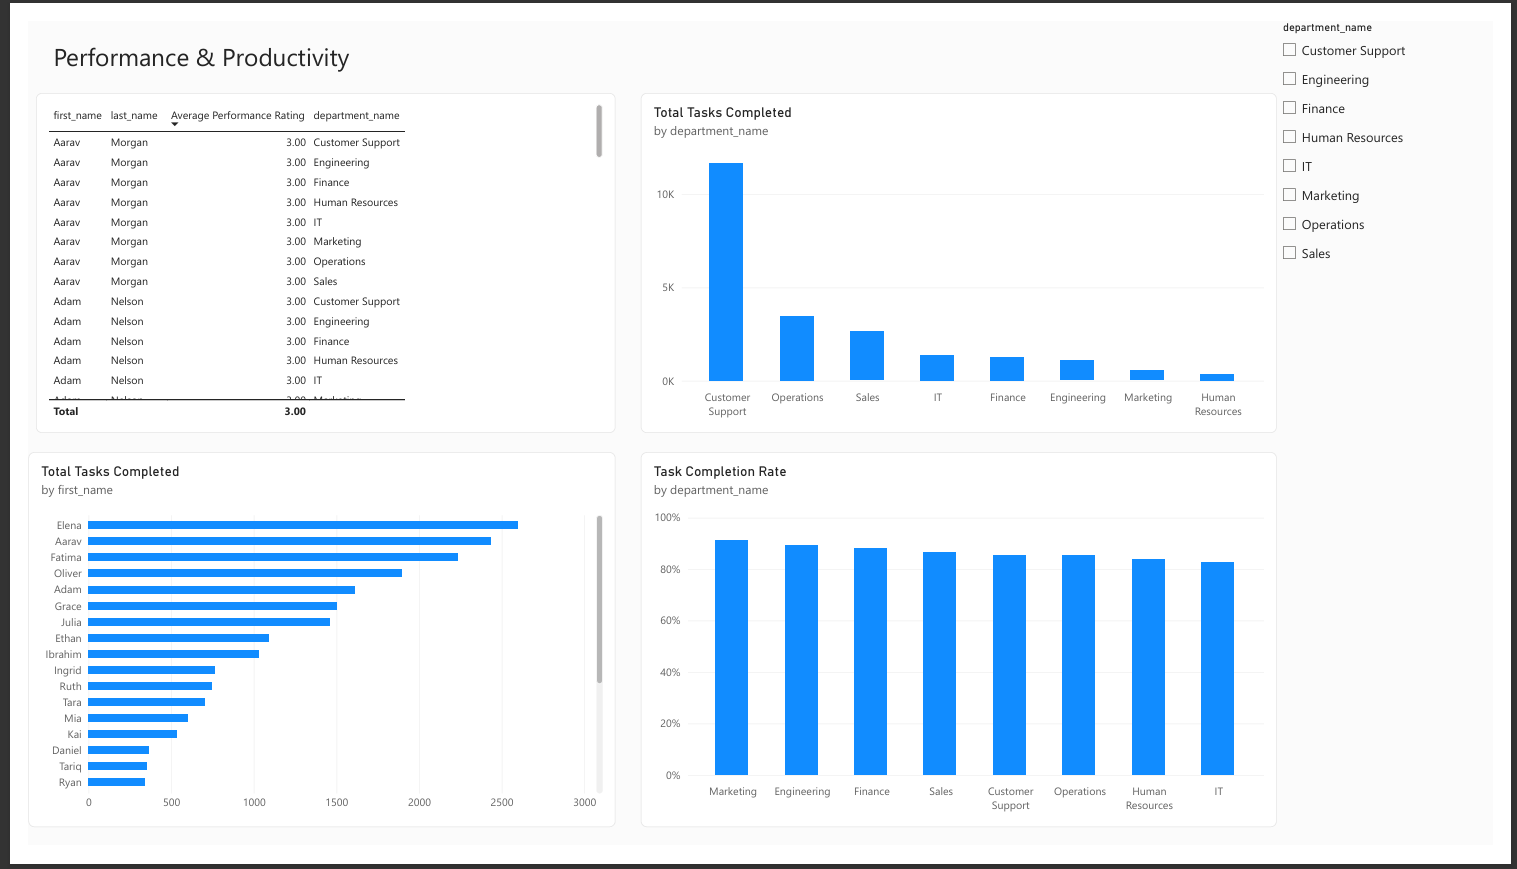

The page's visual inventory and layout, read from the dashboard file:
{"tool":"powerbi","page":{"name":"Performance & Productivity","canvas":[1920,1080],"ordinal":1},"visuals":[{"type":"tableEx","fields":{"Values":["public employees.first_name","public employees.last_name","Measures (3).Average Performance Rating","public departments.department_name"]},"box":[10.1,93.7,760.1,445.9],"z":0},{"type":"slicer","fields":{"Values":["public departments.department_name"]},"box":[1636.7,0,283.8,1079.3],"z":1000},{"type":"clusteredBarChart","fields":{"Category":["public employees.first_name"],"Y":["Measures (3).Total Tasks Completed"]},"box":[0,565,770.2,491.5],"z":2000},{"type":"clusteredColumnChart","fields":{"Category":["public departments.department_name"],"Y":["Measures (3).Total Tasks Completed"]},"box":[803.2,93.7,833.6,445.9],"z":3000},{"type":"clusteredColumnChart","fields":{"Category":["public departments.department_name"],"Y":["Measures (3).Task Completion Rate"]},"box":[803.2,565,833.6,491.5],"z":4000},{"type":"textbox","box":[32.9,22.8,516.9,70.9],"z":4001}]}

Visuals, with their boxes in screenshot pixels (x1, y1, x2, y2), scaled from the page's 1920x1080 canvas onto the 1517x869 screenshot:
tableEx - public employees.first_name x public employees.last_name: (8, 75, 609, 434)
slicer - public departments.department_name: (1293, 0, 1516, 868)
clusteredBarChart - public employees.first_name x Measures (3).Total Tasks Completed: (0, 455, 609, 850)
clusteredColumnChart - public departments.department_name x Measures (3).Total Tasks Completed: (635, 75, 1293, 434)
clusteredColumnChart - public departments.department_name x Measures (3).Task Completion Rate: (635, 455, 1293, 850)
textbox: (26, 18, 434, 75)
